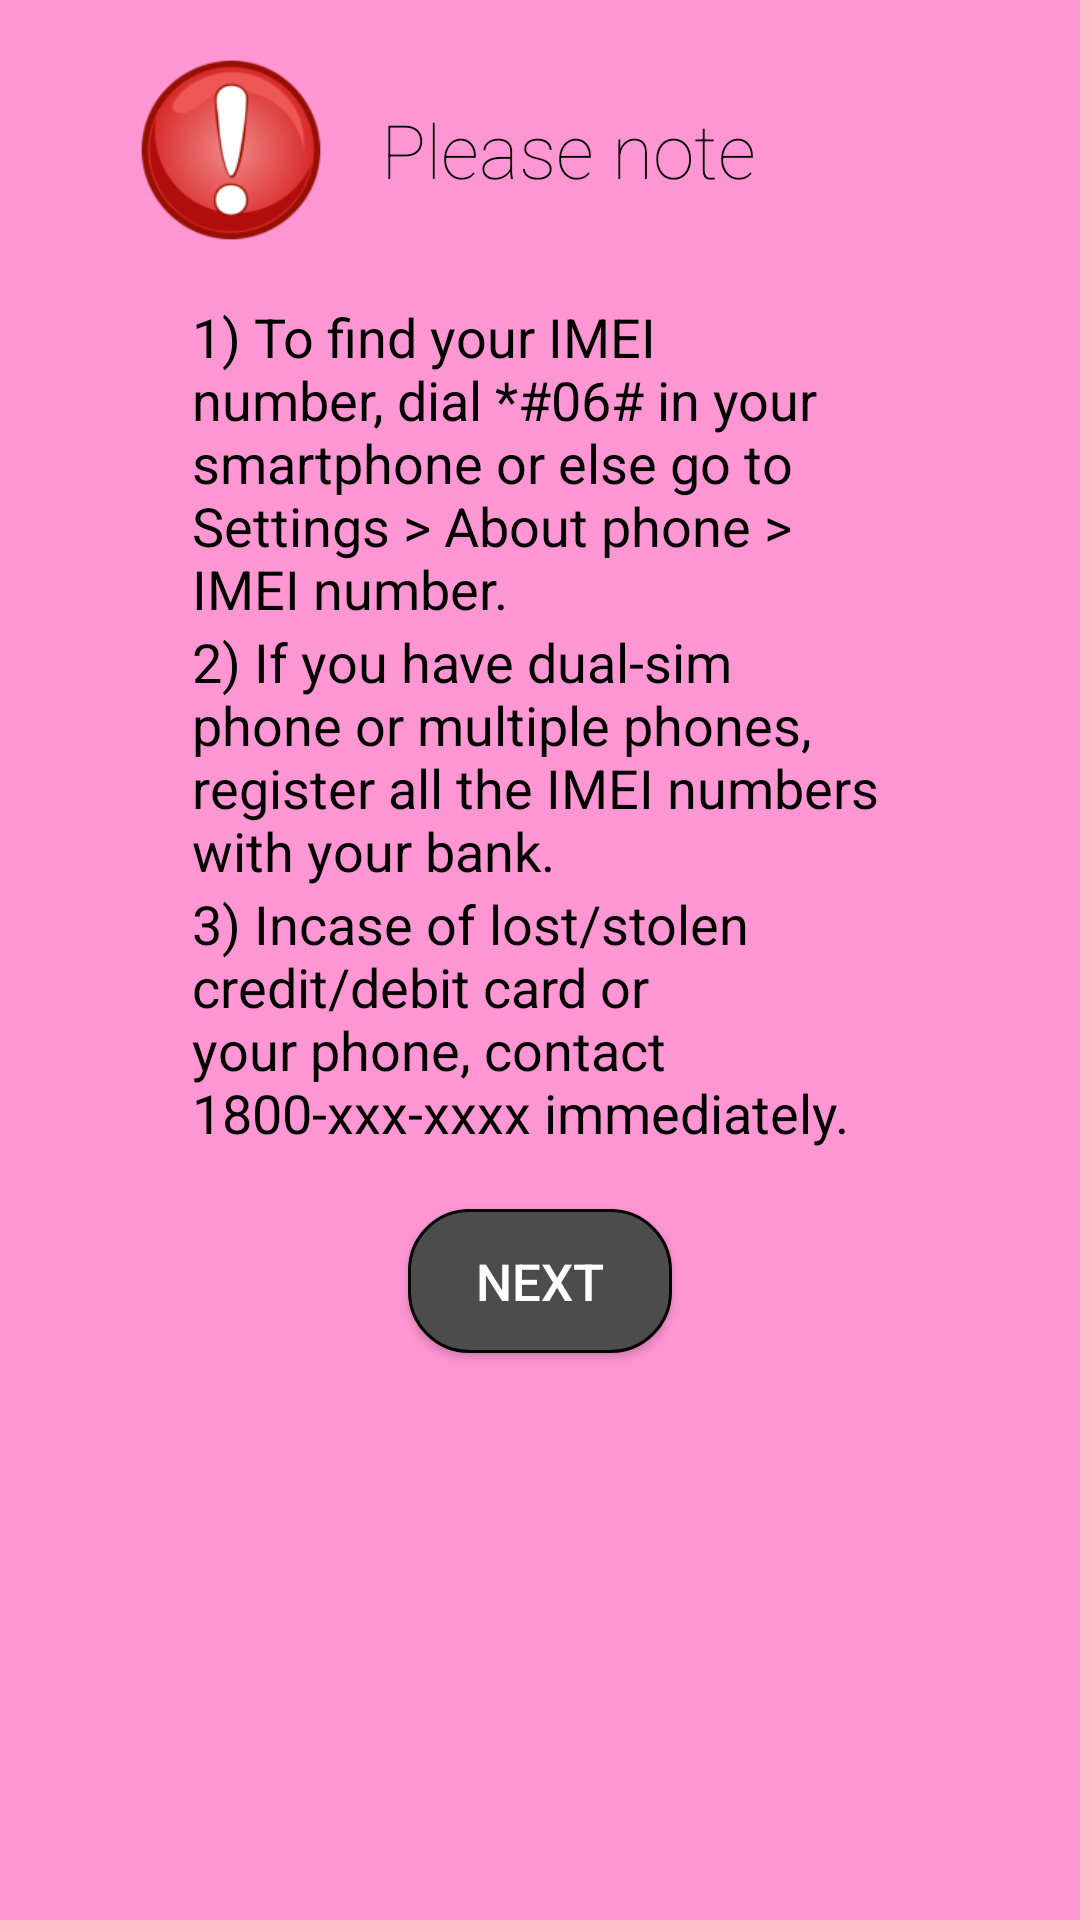

Point at icon controls on the screen. Image size 1080x1920, points as [x,y].
warning: [231,150]
